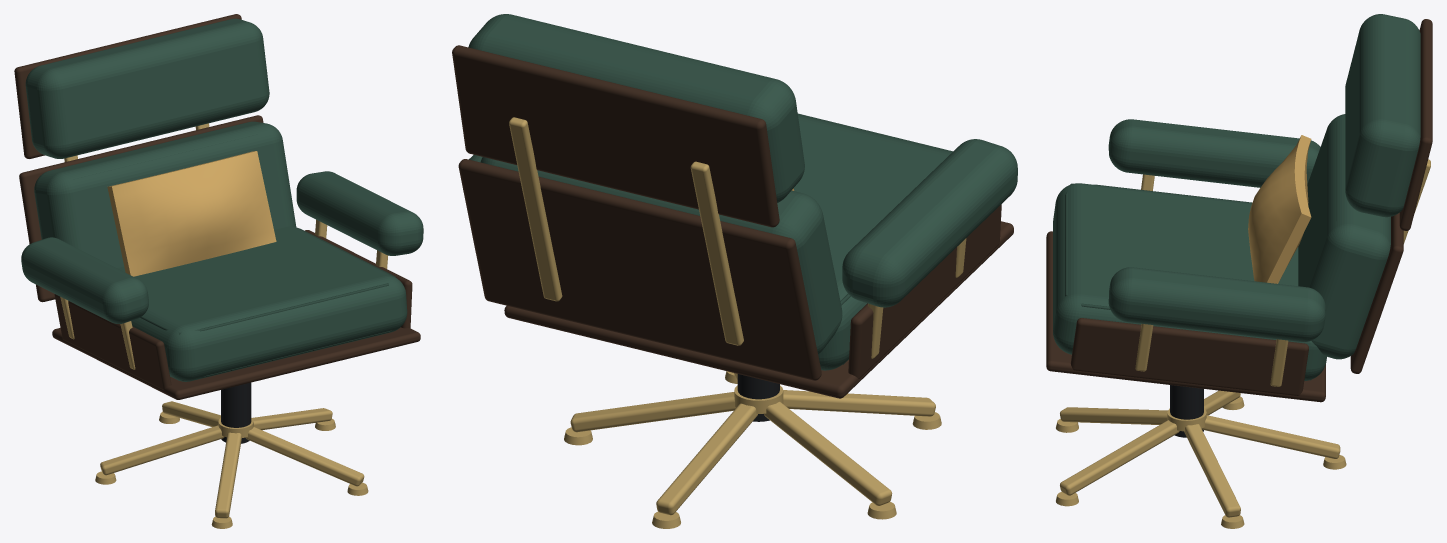
The model's file is atelier-molded-moss.glb.
3 renders of one model, left to right at view 1: azimuth 30°, elevation 25°; view 2: azimuth 150°, elevation 25°; view 3: azimuth 270°, elevation 25°, orthographic. The views are drawn at different scales.
Size of the model in its own units: 0.8695 by 0.934 by 0.823.
